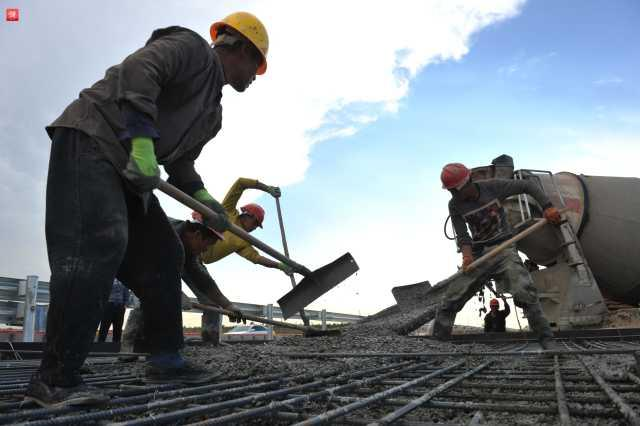helmet: (210, 14, 272, 78), (441, 164, 470, 189), (243, 199, 266, 229), (491, 298, 500, 309)
